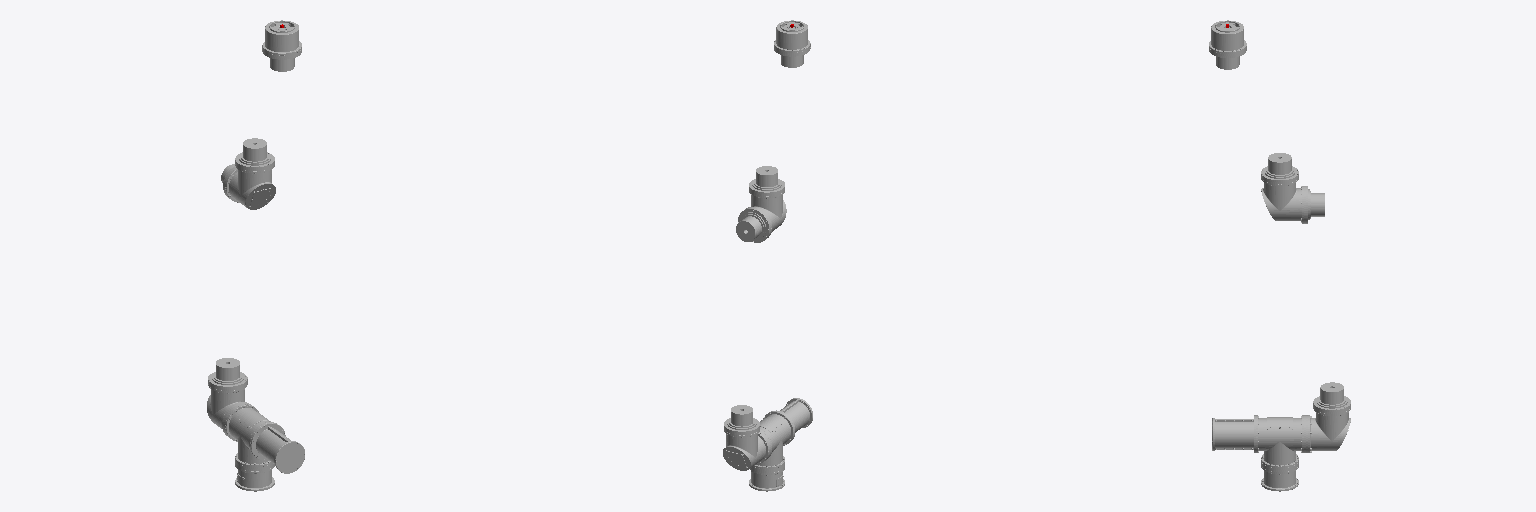
URDF robot description (ASM_KARI_ARM_URDF):
<?xml version="1.0" encoding="utf-8"?>
<!-- This URDF was automatically created by SolidWorks to URDF Exporter! Originally created by [author] ([email redacted]) 
     Commit Version: 1.6.0-4-g7f85cfe  Build Version: 1.6.7995.38578
     For more information, please see http://wiki.ros.org/sw_urdf_exporter -->
<robot
  name="ASM_KARI_ARM_URDF">
 <link
    name="world">
  </link>
  <joint
    name="world_fixed" type="fixed">
    <origin
      xyz="0 0 0"
      rpy="0 0 0" />
    <parent
      link="world" />
    <child
      link="base" />
  </joint>
  <link
    name="base">
    <inertial>
      <origin
        xyz="-0.00000965 -0.00003686 0.07767998"
        rpy="0 0 0" />
      <mass
        value="3.3436" />
      <inertia
        ixx="0.00751250"
        ixy="-0.00000006"
        ixz="0.00000167"
        iyy="0.00752435"
        iyz="-0.00000111"
        izz="0.00631252" />
    </inertial>
    <visual>
      <origin
        xyz="0 0 0"
        rpy="0 0 0" />
      <geometry>
        <mesh
          filename="meshes/ASM_J0.STL" />
      </geometry>
      <material
        name="">
        <color
          rgba="0.75294 0.75294 0.75294 1" />
      </material>
    </visual>
    <collision>
      <origin
        xyz="0 0 0"
        rpy="0 0 0" />
      <geometry>
        <mesh
          filename="meshes/ASM_J0.STL" />
      </geometry>
    </collision>
  </link>
  
<!-- -->
  <link
    name="link1">
    <inertial>
      <origin
        xyz="-0.00026892 -0.08021331 0.09358186"
        rpy="0 0 0" />
      <mass
        value="2.1207" />
      <inertia
        ixx="0.02665777"
        ixy="0.00012951"
        ixz="-0.00002113"
        iyy="0.00821363"
        iyz="-0.00194208"
        izz="0.02512228" />
    </inertial>
    <visual>
      <origin
        xyz="0 0 0"
        rpy="0 0 0" />
      <geometry>
        <mesh
          filename="meshes/ASM_J1.STL" />
      </geometry>
      <material
        name="">
        <color
          rgba="0.75294 0.75294 0.75294 1" />
      </material>
    </visual>
    <collision>
      <origin
        xyz="0 0 0"
        rpy="0 0 0" />
      <geometry>
        <mesh
          filename="meshes/ASM_J1.STL" />
      </geometry>
    </collision>
  </link>
  <joint
    name="joint1"
    type="revolute">
    <origin
      xyz="0 0 0.09400000"
      rpy="0 0 0" />
    <parent
      link="base" />
    <child
      link="link1" />
    <axis
      xyz="0 0 1" />
    <limit
      lower="-3.14"
      upper="3.14"
      effort="65"
      velocity="0.17453" />
  </joint>
  <link
    name="link2">
    <inertial>
      <origin
        xyz="0.0 0.06124762 0.05639568"
        rpy="0 0 0" />
      <mass
        value="6.6621" />
      <inertia
        ixx="0.05097328"
        ixy="0.00000002"
        ixz="0.00000000"
        iyy="0.03629437"
        iyz="0.01622322"
        izz="0.02722892" />
    </inertial>
    <visual>
      <origin
        xyz="0 0 0"
        rpy="0 0 0" />
      <geometry>
        <mesh
          filename="meshes/ASM_J2.STL" />
      </geometry>
      <material
        name="">
        <color
          rgba="0.75294 0.75294 0.75294 1" />
      </material>
    </visual>
    <collision>
      <origin
        xyz="0 0 0"
        rpy="0 0 0" />
      <geometry>
        <mesh
          filename="meshes/ASM_J2.STL" />
      </geometry>
    </collision>
  </link>
  <joint
    name="joint2"
    type="revolute">
    <origin
      xyz="0.00000000 0.08800000 0.10500000"
      rpy="0 0 0" />
    <parent
      link="link1" />
    <child
      link="link2" />
    <axis
      xyz="0 1 0" />
    <limit
      lower="-3.14"
      upper="3.14"
      effort="65"
      velocity="0.17453" />
  </joint>
  <link
    name="link3">
    <inertial>
      <origin
        xyz="-0.00033293 -0.00482569 0.40191520"
        rpy="0 0 0" />
      <mass
        value="4.0005" />
      <inertia
        ixx="0.29888290"
        ixy="-0.00000478"
        ixz="0.00033497"
        iyy="0.29796389"
        iyz="-0.00781668"
        izz="0.01207673" />
    </inertial>
    <visual>
      <origin
        xyz="0 0 0"
        rpy="0 0 0" />
      <geometry>
        <mesh
          filename="meshes/ASM_J3.STL" />
      </geometry>
      <material
        name="">
        <color
          rgba="0.75294 0.75294 0.75294 1" />
      </material>
    </visual>
    <collision>
      <origin
        xyz="0 0 0"
        rpy="0 0 0" />
      <geometry>
        <mesh
          filename="meshes/ASM_J3.STL" />
      </geometry>
    </collision>
  </link>
  <joint
    name="joint3"
    type="revolute">
    <origin
      xyz="0.0 0.10400000 0.13100000"
      rpy="0 0 0" />
    <parent
      link="link2" />
    <child
      link="link3" />
    <axis
      xyz="0 0 1" />
    <limit
      lower="-3.14"
      upper="3.14"
      effort="65"
      velocity="0.17453" />
  </joint>
  <link
    name="link4">
    <inertial>
      <origin
        xyz="0.0 -0.06124762 0.05639568"
        rpy="0 0 0" />
      <mass
        value="6.66208086639039" />
      <inertia
        ixx="0.05097328"
        ixy="0.00000002"
        ixz="0.00000000"
        iyy="0.03629437"
        iyz="-0.01622322"
        izz="0.02722892" />
    </inertial>
    <visual>
      <origin
        xyz="0 0 0"
        rpy="0 0 0" />
      <geometry>
        <mesh
          filename="meshes/ASM_J4.STL" />
      </geometry>
      <material
        name="">
        <color
          rgba="0.752941176470588 0.752941176470588 0.752941176470588 1" />
      </material>
    </visual>
    <collision>
      <origin
        xyz="0 0 0"
        rpy="0 0 0" />
      <geometry>
        <mesh
          filename="meshes/ASM_J4.STL" />
      </geometry>
    </collision>
  </link>
  <joint
    name="joint4"
    type="revolute">
    <origin
      xyz="0.0 -0.088 0.8"
      rpy="0 0 0" />
    <parent
      link="link3" />
    <child
      link="link4" />
    <axis
      xyz="0 1 0" />
    <limit
      lower="-3.14"
      upper="3.14"
      effort="65"
      velocity="0.17453" />
  </joint>
  <link
    name="link5">
    <inertial>
      <origin
        xyz="-0.00050908 -0.00461248 0.21393427"
        rpy="0 0 0" />
      <mass
        value="2.61610343459293" />
      <inertia
        ixx="0.05207280"
        ixy="-0.00000483"
        ixz="0.00009635"
        iyy="0.05170972"
        iyz="-0.00247387"
        izz="0.00805695" />
    </inertial>
    <visual>
      <origin
        xyz="0 0 0"
        rpy="0 0 0" />
      <geometry>
        <mesh
          filename="meshes/ASM_J5.STL" />
      </geometry>
      <material
        name="">
        <color
          rgba="0.752941176470588 0.752941176470588 0.752941176470588 1" />
      </material>
    </visual>
    <collision>
      <origin
        xyz="0 0 0"
        rpy="0 0 0" />
      <geometry>
        <mesh
          filename="meshes/ASM_J5.STL" />
      </geometry>
    </collision>
  </link>
  <joint
    name="joint5"
    type="revolute">
    <origin
      xyz="0.0 -0.10400000 0.13100000"
      rpy="0 0 0" />
    <parent
      link="link4" />
    <child
      link="link5" />
    <axis
      xyz="0 0 1" />
    <limit
      lower="-3.14"
      upper="3.14"
      effort="65"
      velocity="0.17453" />
  </joint>
  <link
    name="link6">
    <inertial>
      <origin
        xyz="0.00011474 -0.05246547 -0.03422529"
        rpy="0 0 0" />
      <mass
        value="4.9702" />
      <inertia
        ixx="0.05197714"
        ixy="-0.00005372"
        ixz="-0.00015573"
        iyy="0.03740379"
        iyz="0.01165841"
        izz="0.02571022" />
    </inertial>
    <visual>
      <origin
        xyz="0 0 0"
        rpy="0 0 0" />
      <geometry>
        <mesh
          filename="meshes/ASM_J6.STL" />
      </geometry>
      <material
        name="">
        <color
          rgba="0.75294 0.75294 0.75294 1" />
      </material>
    </visual>
    <collision>
      <origin
        xyz="0 0 0"
        rpy="0 0 0" />
      <geometry>
        <mesh
          filename="meshes/ASM_J6.STL" />
      </geometry>
    </collision>
  </link>
  <joint
    name="joint6"
    type="revolute">
    <origin
      xyz="0.0 -0.07100000 0.40800000 "
      rpy="0 0 0" />
    <parent
      link="link5" />
    <child
      link="link6" />
    <axis
      xyz="0 1 0" />
    <limit
      lower="-3.14"
      upper="3.14"
      effort="65"
      velocity="0.17453" />
  </joint>
  <link
    name="link7">
    <inertial>
      <origin
        xyz="0.00000590 0.0 0.01747537"
        rpy="0 0 0" />
      <mass
        value="3.37149608479365" />
      <inertia
        ixx="0.00768334"
        ixy="0.00000000"
        ixz="0.00000006"
        iyy="0.00768346"
        iyz="0.00000000"
        izz="0.00607932" />
    </inertial>
    <visual>
      <origin
        xyz="0 0 0"
        rpy="0 0 0" />
      <geometry>
        <mesh
          filename="meshes/ASM_J7.STL" />
      </geometry>
      <material
        name="">
        <color
          rgba="0.752941176470588 0.752941176470588 0.752941176470588 1" />
      </material>
    </visual>
    <collision>
      <origin
        xyz="0 0 0"
        rpy="0 0 0" />
      <geometry>
        <mesh
          filename="meshes/ASM_J7.STL" />
      </geometry>
    </collision>
  </link>
  <joint
    name="joint7"
    type="revolute">
    <origin
      xyz="0.0 -0.12100000 0.08800000"
      rpy="0 0 0" />
    <parent
      link="link6" />
    <child
      link="link7" />
    <axis
      xyz="0 0 1" />
    <limit
      lower="-3.14"
      upper="3.14"
      effort="65"
      velocity="0.17453" />
  </joint>
  
  <link  name="eef_link">
    <inertial>
      <origin
        xyz="0 0 0"
        rpy="0 0 0" />
      <mass
        value="0.0" />
      <inertia
        ixx="0.0"
        ixy="0.0"
        ixz="0.0"
        iyy="0.0"
        iyz="0.0"
        izz="0.0" />
    </inertial>
    <visual>
      <origin
        xyz="0 0 0"
        rpy="0 0 0" />
      <geometry>
        <box size="0.01 0.01 0.01"/>
      </geometry>
      <material
        name="red">
        <color
          rgba="1.0 0 0 1" />
      </material>
    </visual>    
  </link>


    <joint
    name="eef_fixed"
    type="fixed">
    <origin
      xyz="0 0 0.097"
      rpy="0 0 0" />
    <parent
      link="link7" />
    <child
      link="eef_link" />
  </joint>  
</robot>

--- What the picture shows (computed from the rendered views, not written in the file) ---
3 views of the same robot in one strip: view 1: azimuth 30°, elevation 25°; view 2: azimuth 150°, elevation 25°; view 3: azimuth 270°, elevation 25° (orthographic).
Robot: ASM_KARI_ARM_URDF — 10 links, 9 joints (7 revolute, 2 fixed); root link world; default pose: all joints at 0.
Links seen in each view (by area): view 1: link1, link4, link2, link7, base; view 2: link4, link2, link1, link7, base; view 3: link1, link4, link2, link7, base.
Link boxes in pixels (<box>): link1: <box>225,404,304,473</box>; link4: <box>221,138,275,209</box>; link2: <box>207,358,250,435</box>; link7: <box>262,20,301,71</box>; base: <box>235,460,274,491</box>; link4: <box>736,166,786,242</box>; link2: <box>723,405,770,470</box>; link1: <box>753,398,812,468</box>; link7: <box>774,20,810,67</box>; base: <box>749,464,784,491</box>; link1: <box>1212,415,1303,467</box>; link4: <box>1261,153,1324,223</box>; link2: <box>1304,382,1350,452</box>; link7: <box>1209,20,1246,69</box>; base: <box>1261,462,1298,491</box>.
Size in the robot's own frame: 0.14 by 0.524 by 1.86 metres.
5 mesh visuals loaded from 8 distinct referenced files (5 binary STL); not drawn: 3 (reference not matched to a file when rendering).
